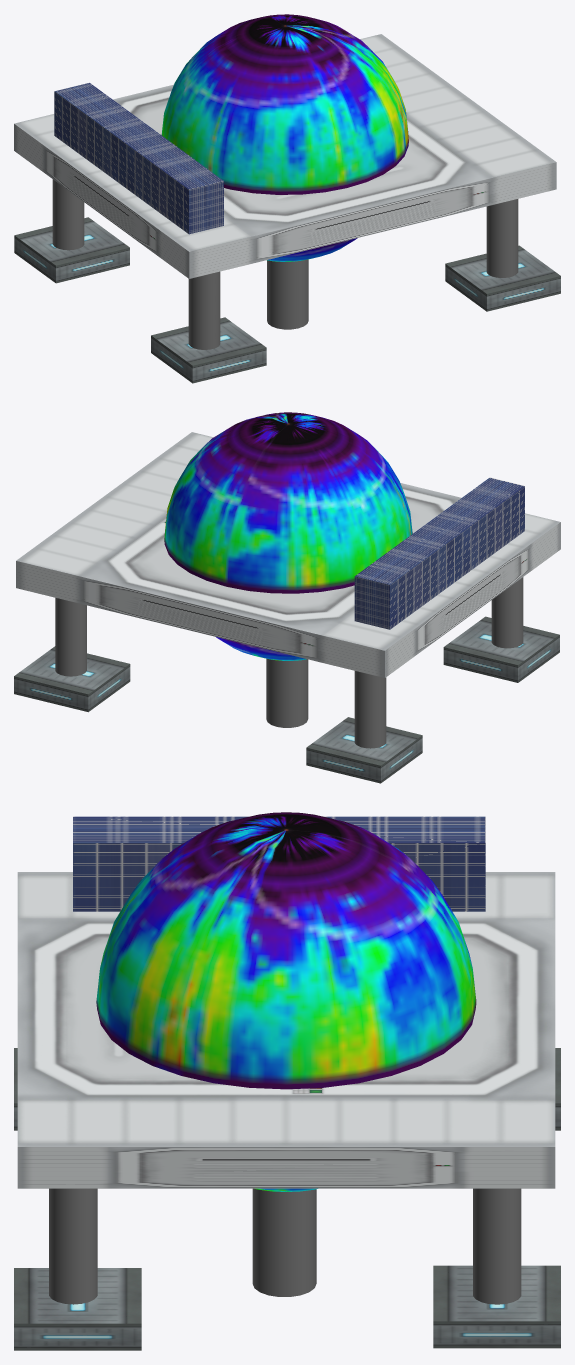
Rendered from MiningItem.FBX.
3 views of the same model, one above another, from view 1: azimuth 30°, elevation 25°; view 2: azimuth 150°, elevation 25°; view 3: azimuth 270°, elevation 25° (orthographic). The views are drawn at different scales.
Visible parts, largest first — view 1: Box012, Sphere001, Box017, Box015, Box014, Box016, Tube001, Cylinder001, Cylinder002, Cylinder003; view 2: Box012, Sphere001, Box017, Box014, Box015, Box013, Tube001, Cylinder003, Cylinder004, Cylinder002; view 3: Box012, Sphere001, Box017, Box016, Box013, Tube001, Cylinder004, Cylinder001.
Boxes of the visible parts, x1=… form: Box012: x1=14, y1=34, x2=556, y2=278; Sphere001: x1=161, y1=14, x2=408, y2=261; Box017: x1=54, y1=82, x2=223, y2=234; Box015: x1=151, y1=317, x2=266, y2=383; Box014: x1=14, y1=217, x2=129, y2=283; Box016: x1=445, y1=245, x2=560, y2=311; Tube001: x1=267, y1=259, x2=308, y2=329; Cylinder001: x1=486, y1=199, x2=518, y2=277; Cylinder002: x1=188, y1=271, x2=220, y2=349; Cylinder003: x1=52, y1=179, x2=84, y2=250; Box012: x1=16, y1=432, x2=560, y2=677; Sphere001: x1=164, y1=412, x2=412, y2=660; Box017: x1=354, y1=477, x2=524, y2=629; Box014: x1=306, y1=717, x2=422, y2=783; Box015: x1=443, y1=616, x2=559, y2=682; Box013: x1=14, y1=646, x2=130, y2=712; Tube001: x1=266, y1=658, x2=308, y2=727; Cylinder003: x1=354, y1=671, x2=386, y2=748; Cylinder004: x1=55, y1=598, x2=86, y2=676; Cylinder002: x1=491, y1=577, x2=523, y2=648; Box012: x1=17, y1=872, x2=555, y2=1188; Sphere001: x1=96, y1=812, x2=476, y2=1191; Box017: x1=73, y1=816, x2=485, y2=911; Box016: x1=14, y1=1268, x2=141, y2=1350; Box013: x1=433, y1=1265, x2=560, y2=1348; Tube001: x1=252, y1=1188, x2=316, y2=1296; Cylinder004: x1=473, y1=1188, x2=521, y2=1304; Cylinder001: x1=49, y1=1188, x2=97, y2=1304.
Bounding box in the file's own units: 390 × 296 × 325.
Materials: 6 (6 with a texture image).
